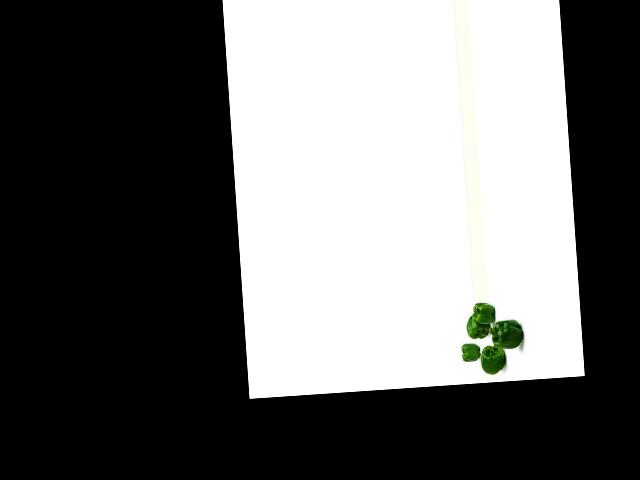bell_pepper: (472, 301, 498, 326)
